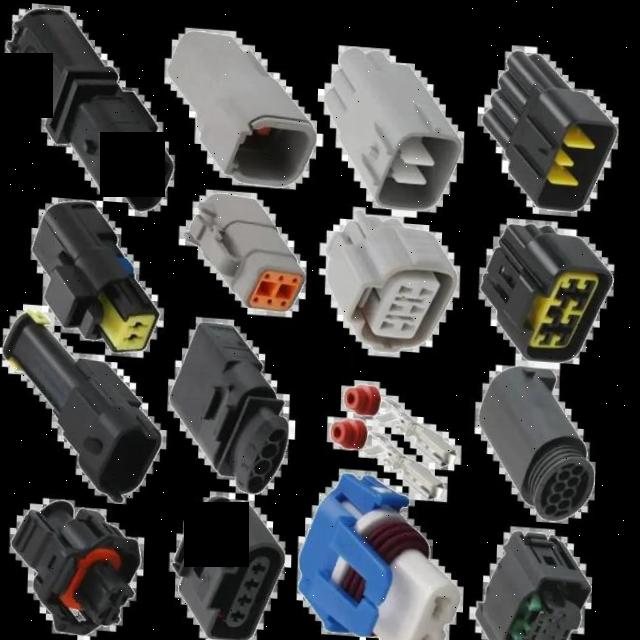connector: (168, 27, 316, 183), (326, 42, 462, 204), (186, 189, 306, 307)
